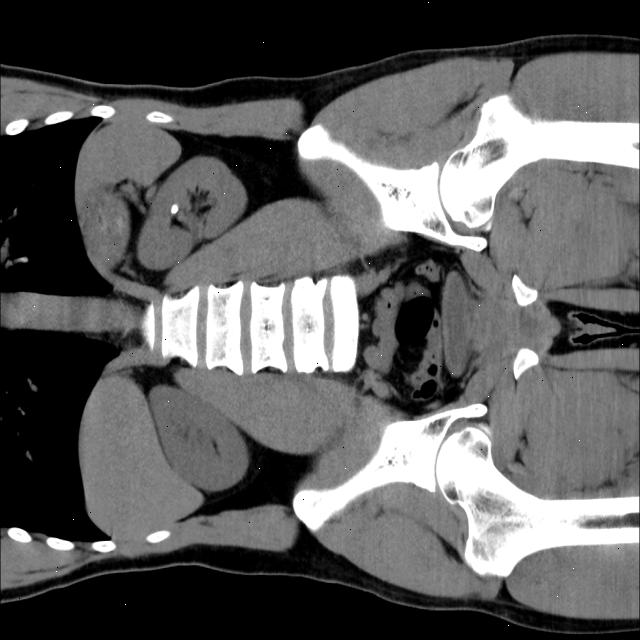kidneystone: (171, 204, 179, 214)
